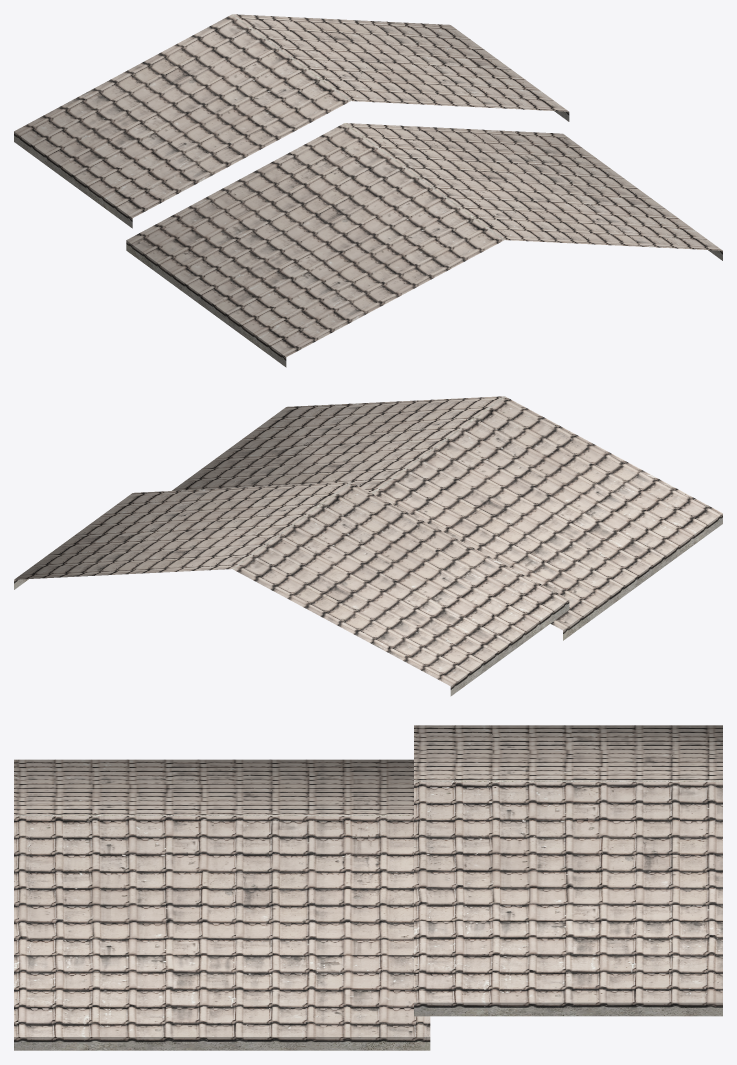
Rendered from propylaea_rooftiles.dae.
3 renders of one model, top to bottom at view 1: azimuth 30°, elevation 25°; view 2: azimuth 150°, elevation 25°; view 3: azimuth 270°, elevation 25°, orthographic. The views are drawn at different scales.
Parts seen in each view (by area): view 1: parthenon_OBJ_011; view 2: parthenon_OBJ_011; view 3: parthenon_OBJ_011.
Boxes of the visible parts, x1,y1,x2,y2 form: parthenon_OBJ_011: (14,14,722,367); parthenon_OBJ_011: (14,396,722,696); parthenon_OBJ_011: (14,725,722,1050).
Bounding box in the file's own units: 23.62 × 5.22 × 25.52.
